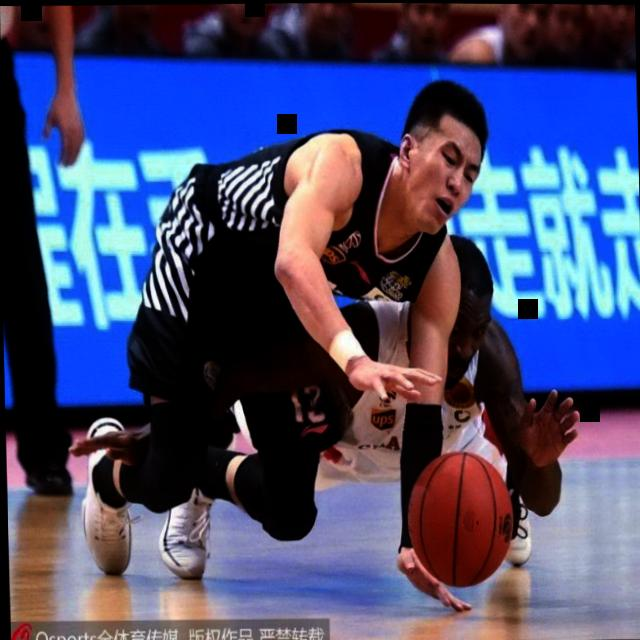Fall-Detected: (69, 109, 558, 598)
